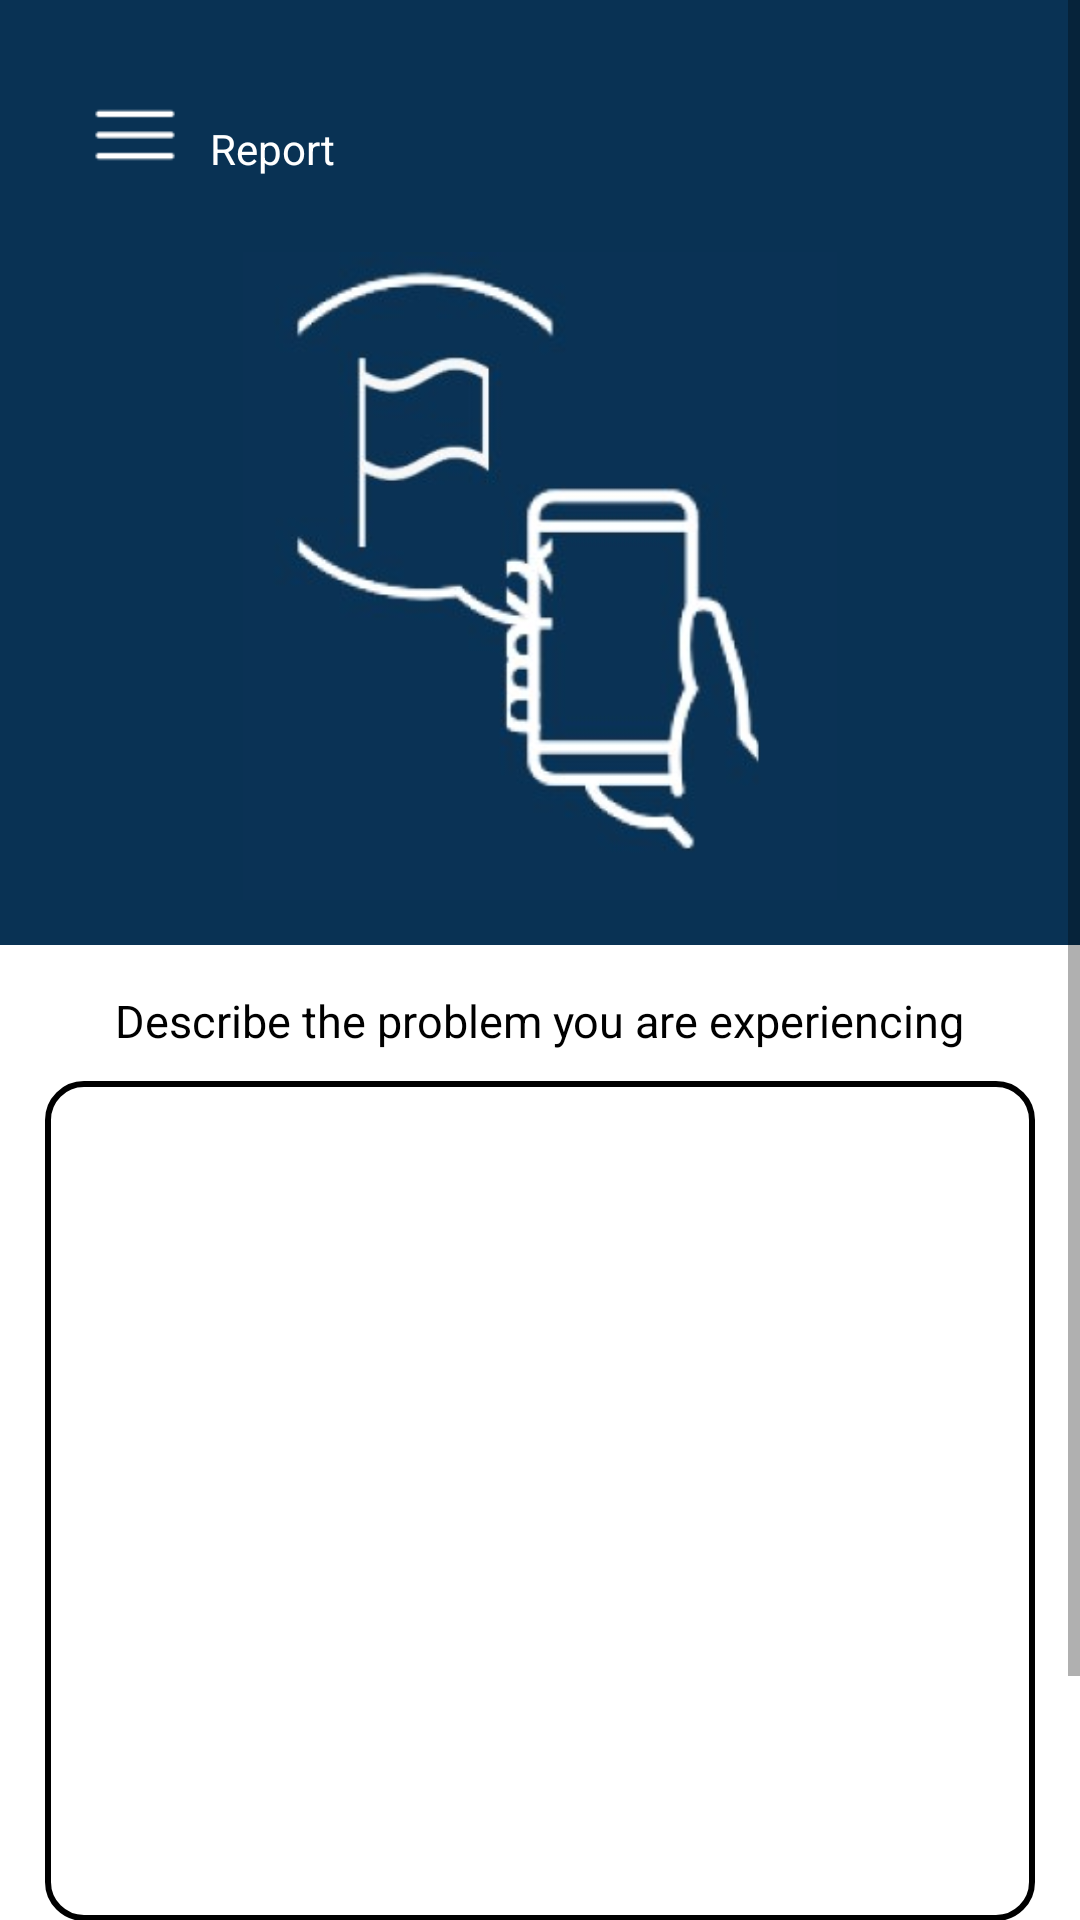

Named icons in this screenshot (1080 x 1920) and their bounding boxes, (x1, y1, x2, y2):
burger: (95, 109, 175, 161)
